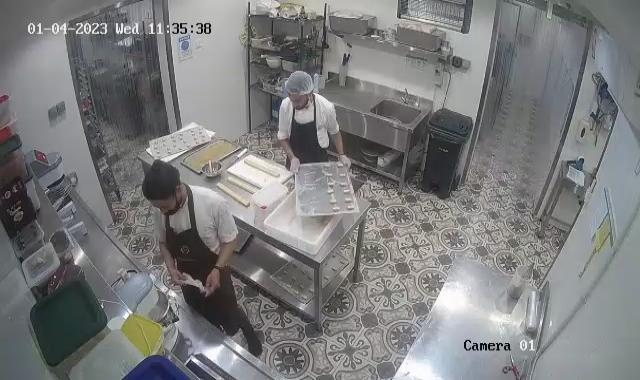hairnet: (284, 70, 314, 100)
no_hairnet: (143, 159, 185, 205)
